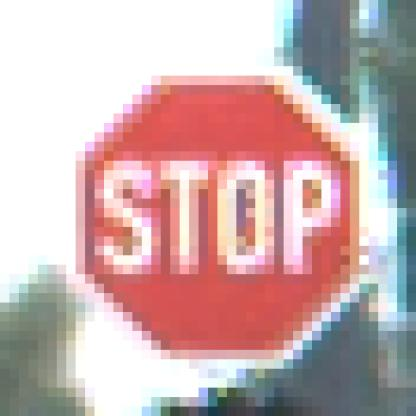Stop: (83, 71, 363, 358)
